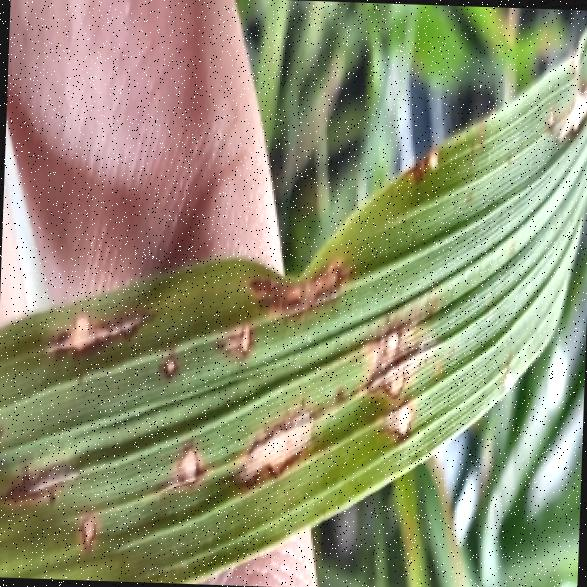Leaf_smut: (0, 289, 225, 582), (222, 244, 438, 504)
